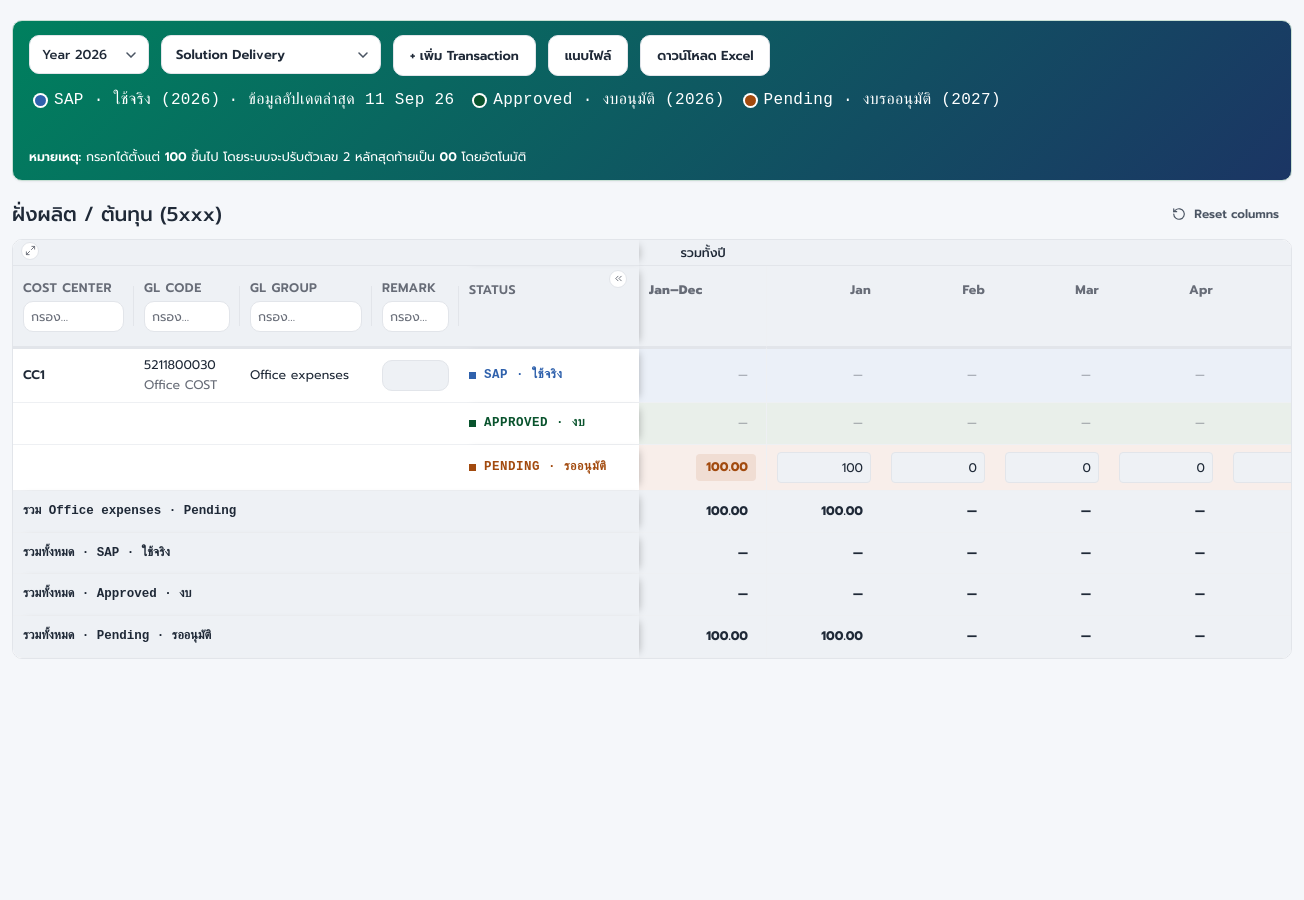
BudgetGrid › on a non-conflict save failure (e.g. session-expiry), the typed value stays in the cell — only a 409 reverts it
Replace the text in the field with test id "pending-input-CC1-5211800030-m01" with "900" at (824, 467), box [777,452,871,483]
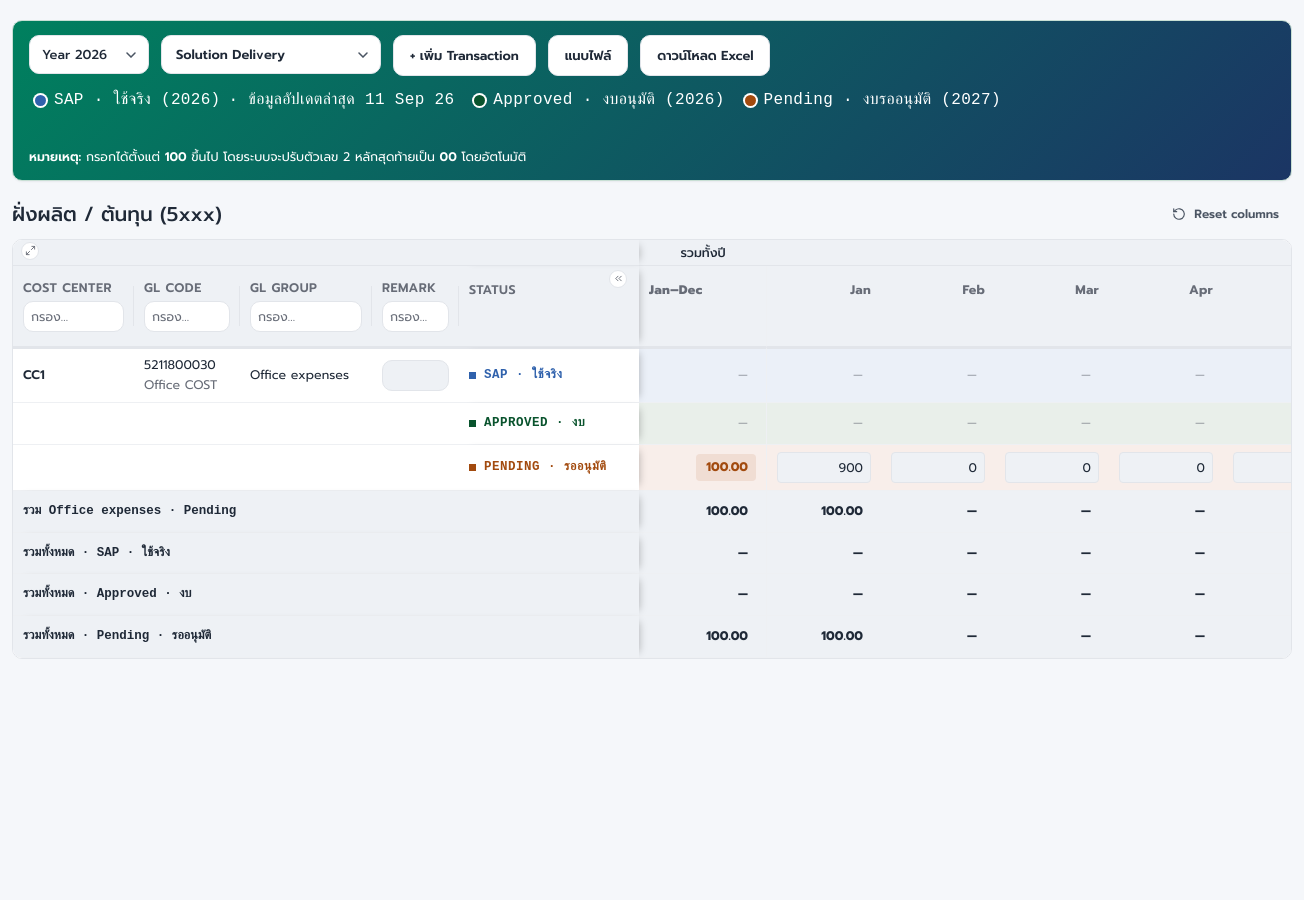
Leave the field with test id "pending-input-CC1-5211800030-m01", box [777,452,871,483]
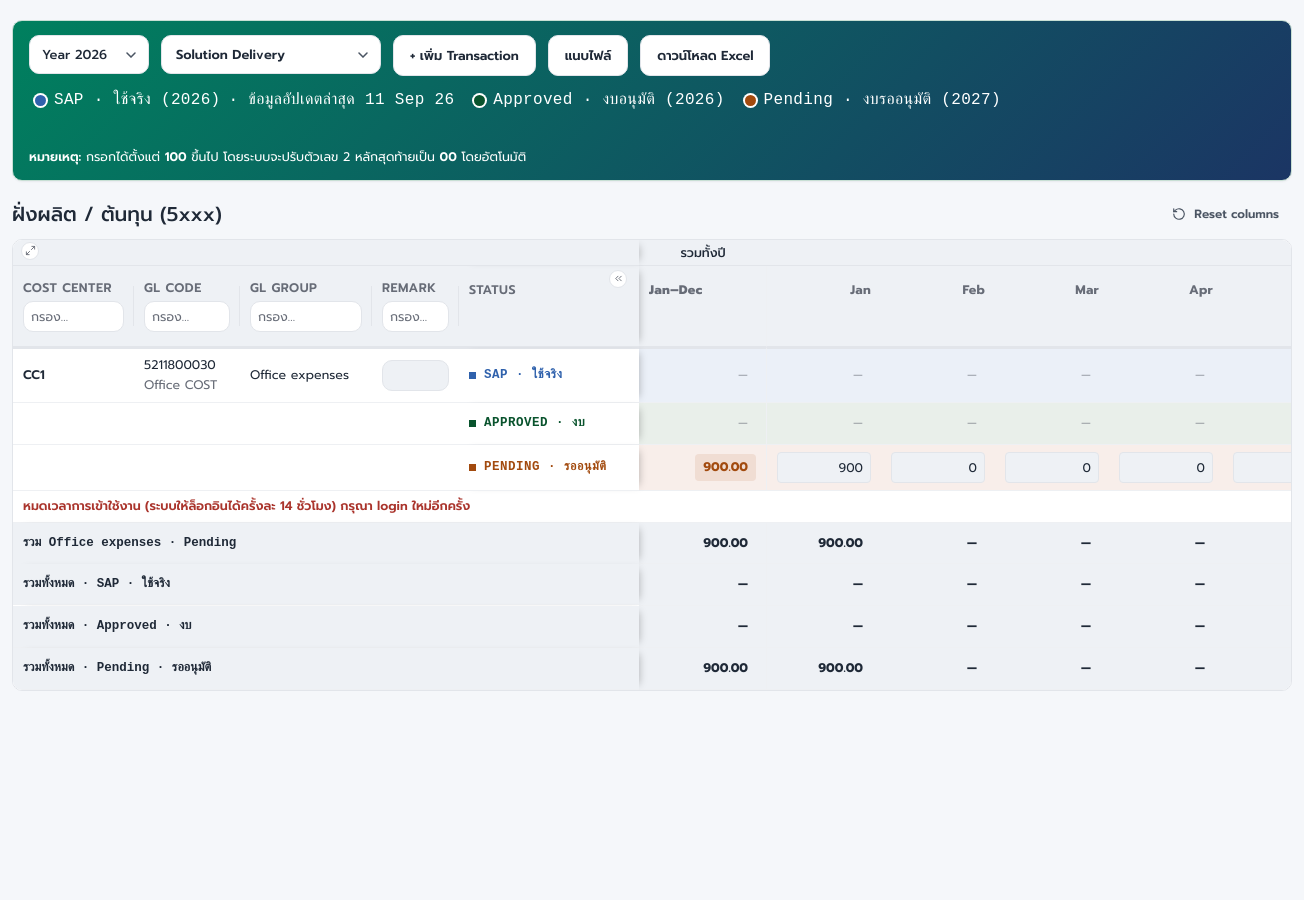
Result: the text "หมดเวลาการเข้าใช้งาน" is shown at [23,496,470,515]
